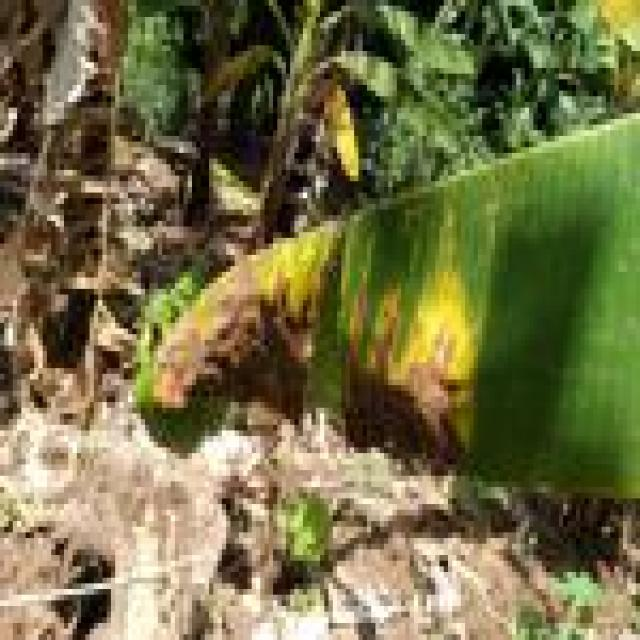Early_rust: (141, 137, 483, 538), (215, 13, 386, 212), (570, 0, 640, 92)
